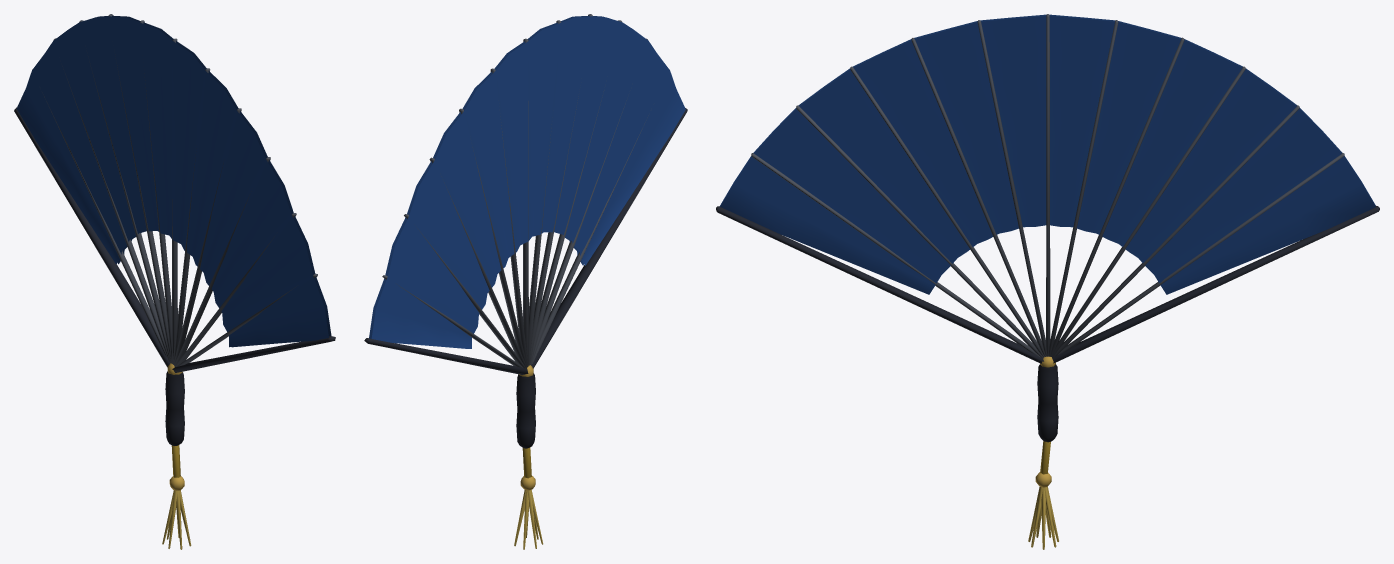
Rendered from fan.glb.
3 views of the same model, side by side, from view 1: azimuth 30°, elevation 25°; view 2: azimuth 150°, elevation 25°; view 3: azimuth 270°, elevation 25° (orthographic). The views are drawn at different scales.
Parts seen in each view (by area): view 1: fan; view 2: fan; view 3: fan.
Boxes of the visible parts, bbox=[...] form: fan: bbox=[14, 14, 335, 549]; fan: bbox=[364, 14, 687, 549]; fan: bbox=[716, 14, 1379, 549].
Bounding box in the file's own units: 0.0286 × 0.5506 × 0.6258.
